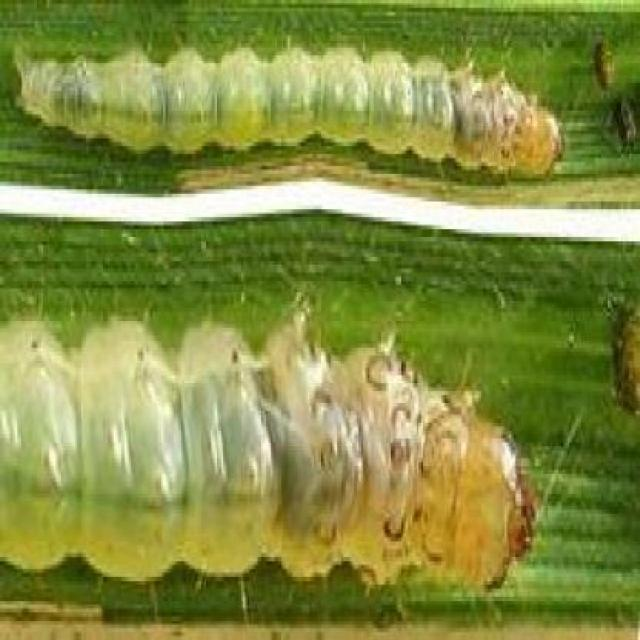leaf-folder: (49, 289, 560, 606), (17, 29, 580, 192)
